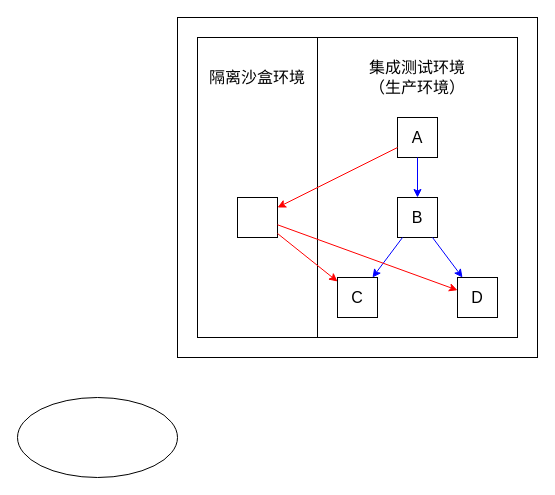
Some shapes in this 555 by 495 pixel diagram are drawn without their labels. The centre of each missing label's shape, as x and y in pixels:
"B2" belongs at [257,217].
"微服务" belongs at [97,437].
